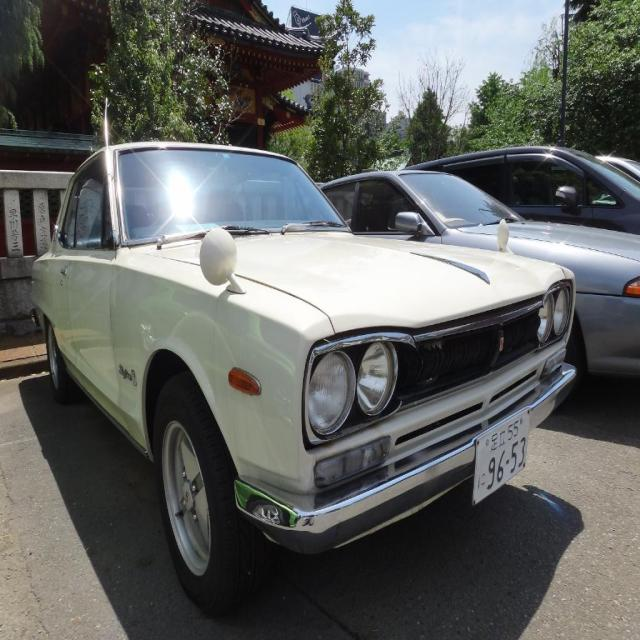car: (28, 97, 576, 618)
